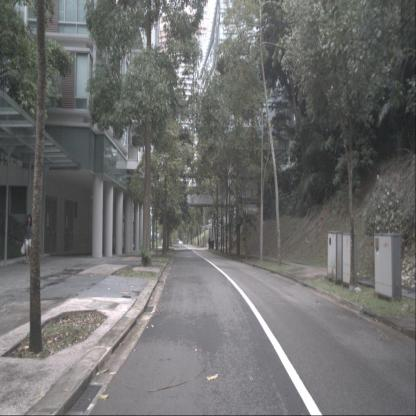human-pedestrian-adult: (21, 214, 34, 265), (218, 235, 221, 250), (208, 235, 211, 250)
